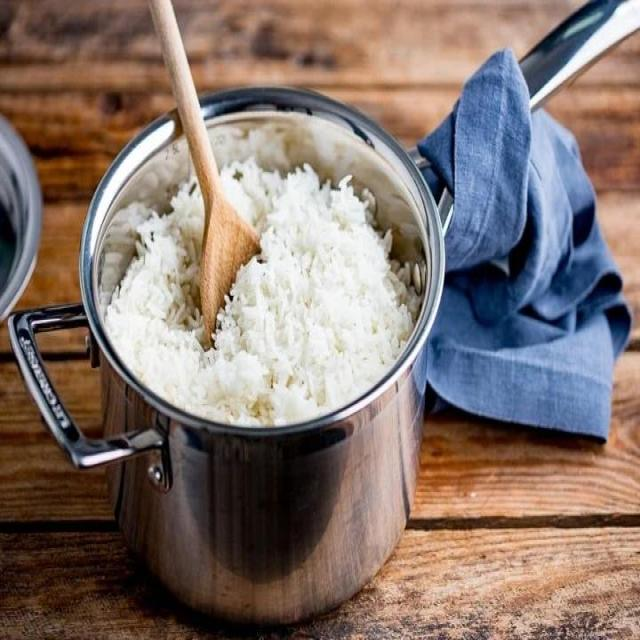rice: (104, 161, 418, 422)
